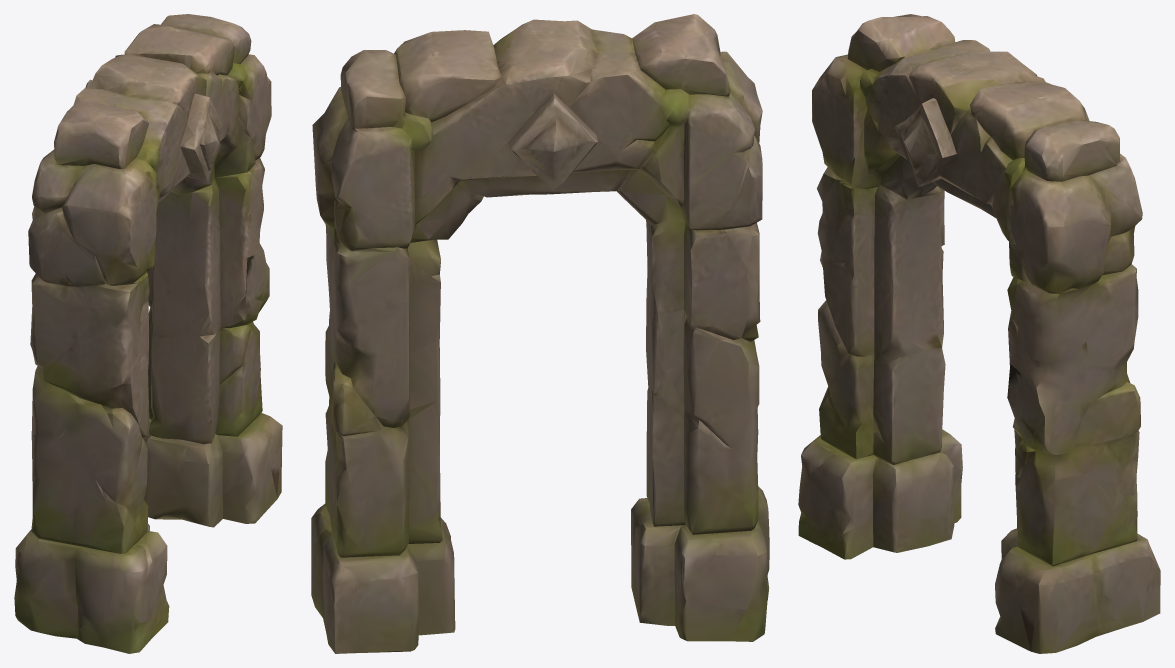
The model's file is puerta_llave_marco_3000.glb.
The picture shows the model from 3 angles, left to right: view 1: azimuth 30°, elevation 25°; view 2: azimuth 150°, elevation 25°; view 3: azimuth 270°, elevation 25°; orthographic projection. The views are drawn at different scales.
Visible parts, largest first — view 1: puerta_llave_marco_malla; view 2: puerta_llave_marco_malla; view 3: puerta_llave_marco_malla.
Boxes of the visible parts, x1,y1,x2,y2 form: puerta_llave_marco_malla: [14, 14, 282, 653]; puerta_llave_marco_malla: [311, 14, 769, 653]; puerta_llave_marco_malla: [798, 14, 1160, 653].
Bounding box in the file's own units: 0.3053 × 0.4514 × 0.2825.
Materials: 1 (1 with a texture image).
